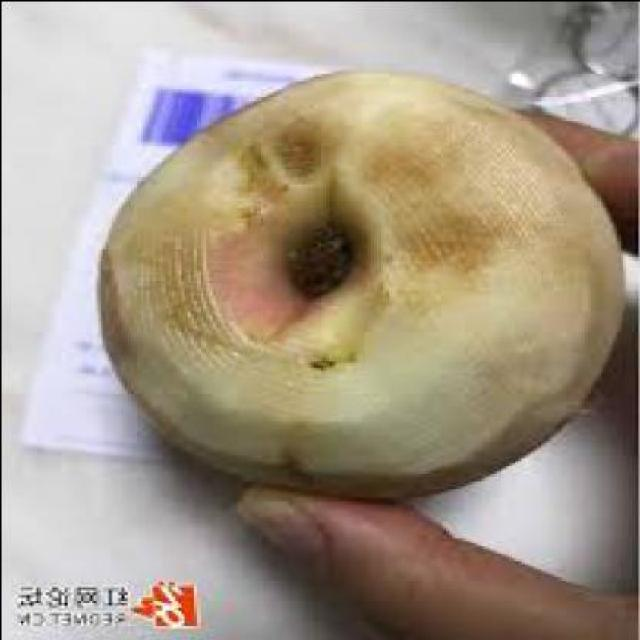BIODEGRADABLE: (101, 75, 621, 498)
GLASS: (535, 71, 635, 134), (573, 3, 640, 83)
PAPER: (21, 51, 329, 457)
